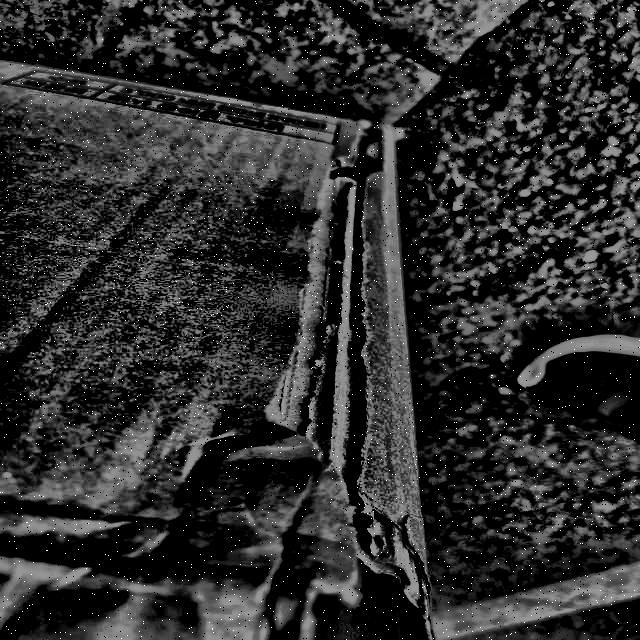box: (0, 46, 449, 640)
hole: (257, 119, 420, 639)
